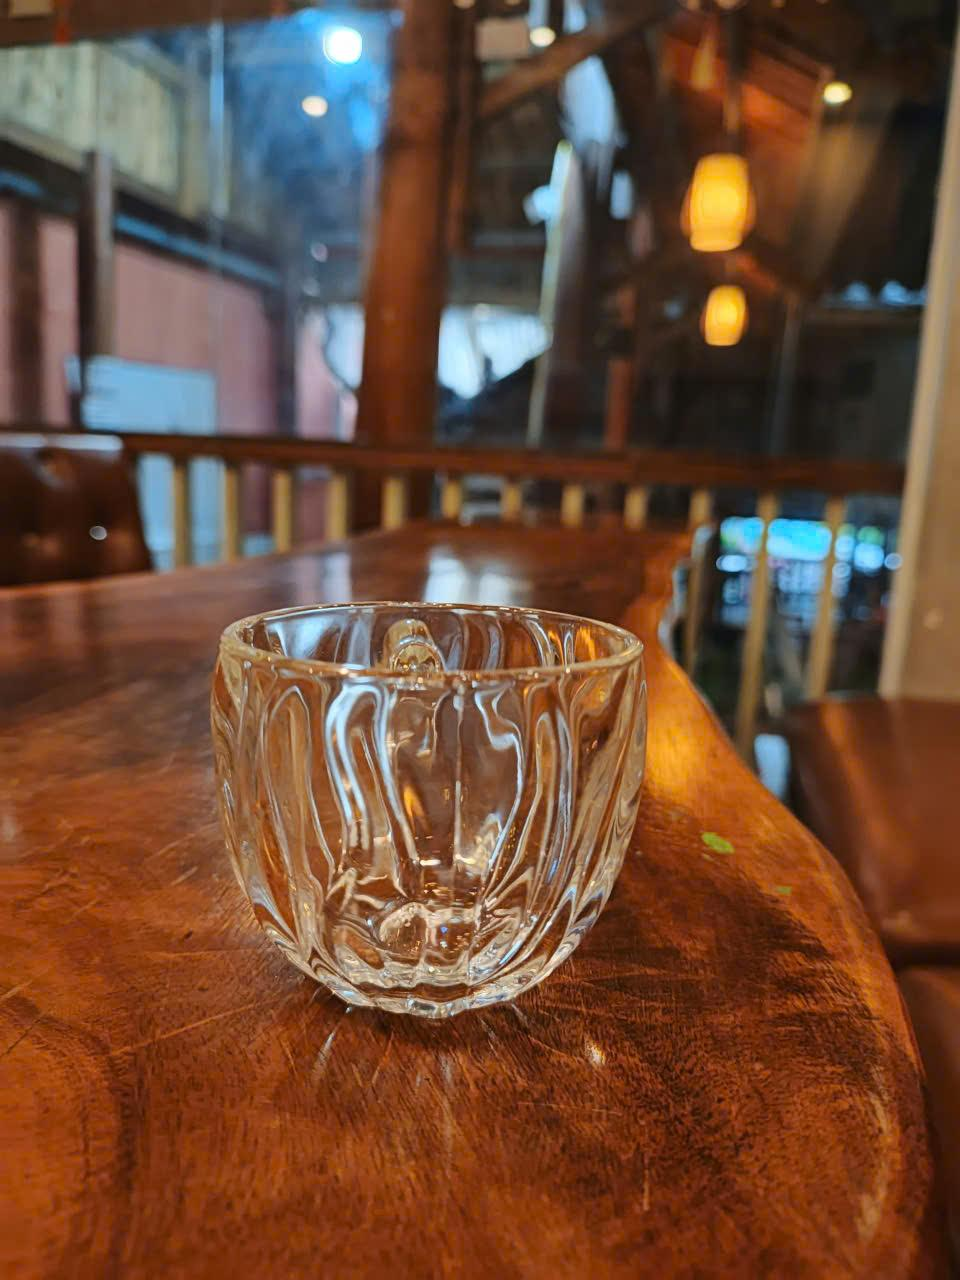Vo co: (215, 596, 654, 1023)
